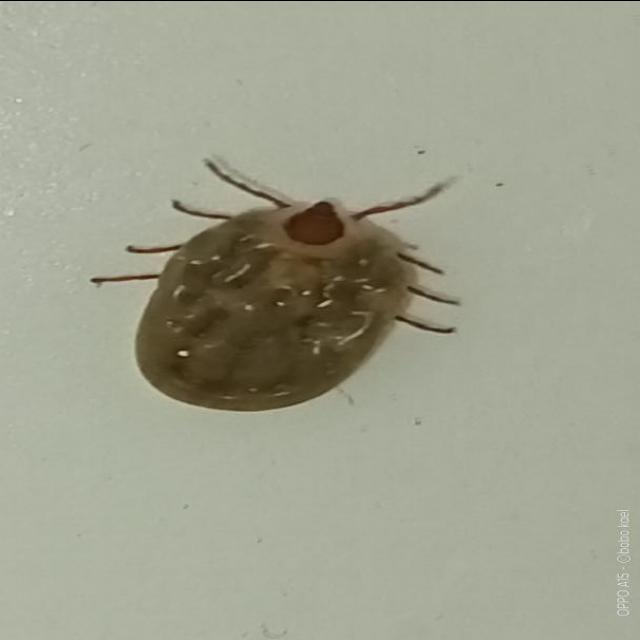Rhipicephalus Sanguineus-F-Fed: (90, 154, 463, 411)
